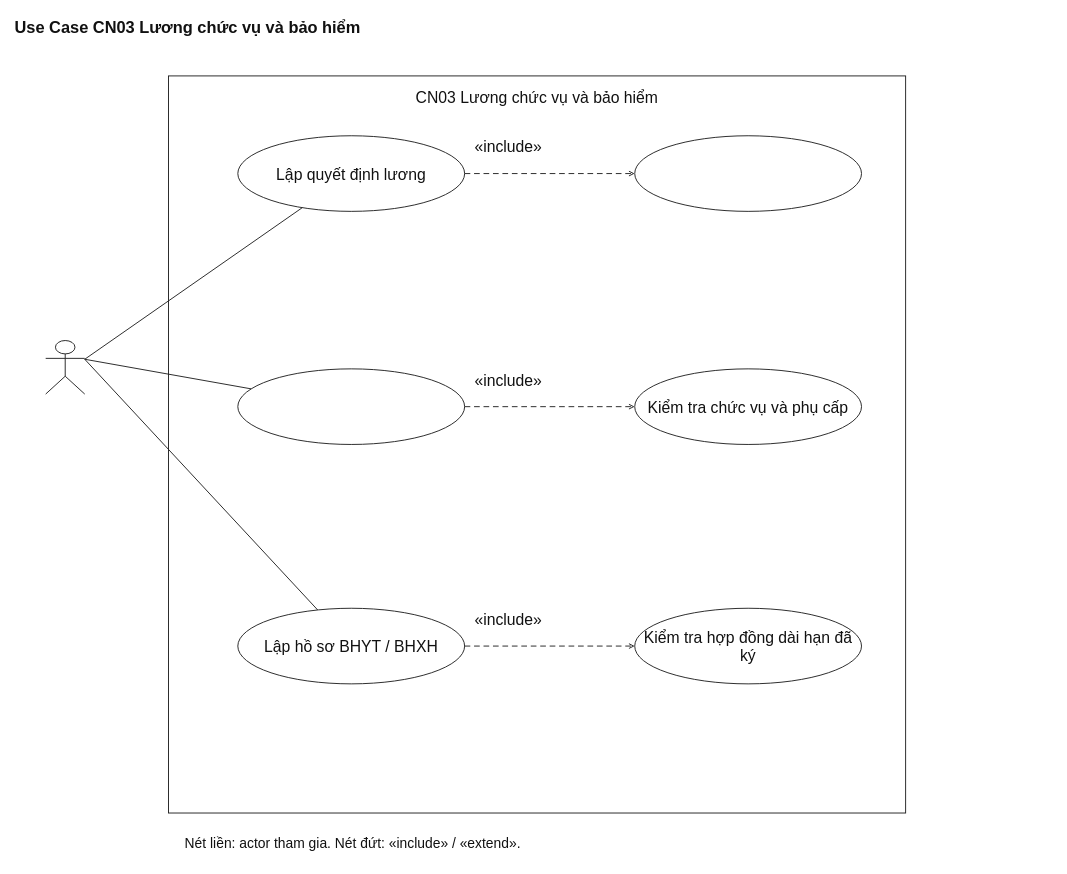
This 1067x874 diagram has some shape labels left out. The centre of each missing label's shape, as x and y in pixels:
Kiểm tra tháng lương chưa khóa: [748,173]
Lập quyết định chức vụ: [351,406]
Nhân sự: [65,367]
